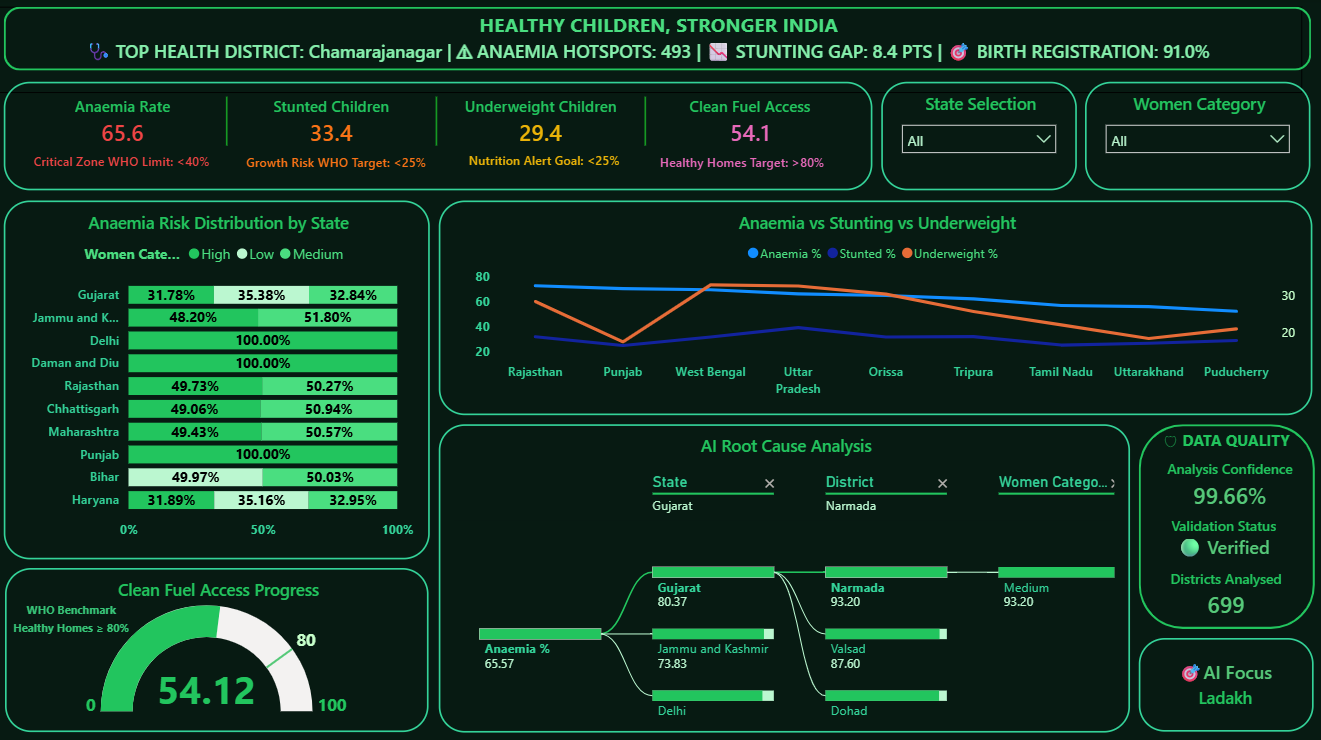

This screenshot's page, from the dashboard's own definition file:
{"tool":"powerbi","page":{"name":"Page 4","canvas":[1280,720],"ordinal":3},"visuals":[{"type":"textbox","box":[9.7,8.4,1261.9,45.8],"z":0},{"type":"cardVisual","fields":{"Data":["Page 4.Health Insight Bar"]},"box":[0,8.4,1261.9,83.2],"z":1000},{"type":"shape","box":[8.4,8.4,1261.9,61.5],"z":2000},{"type":"cardVisual","fields":{"Data":["Measure.Anaemia %","Measure.Stunted %","Measure.Underweight %","Measure.Clean Fuel %"]},"box":[8.4,80.8,838.5,105],"z":3000},{"type":"cardVisual","fields":{"Data":["Page 4.Anaemia Footer"]},"box":[8.2,82.3,255.2,149.6],"z":4000},{"type":"cardVisual","fields":{"Data":["Page 4.Stunting Footer"]},"box":[214.1,101.5,253.9,111.1],"z":5000},{"type":"cardVisual","fields":{"Data":["Page 4.Underweight Footer"]},"box":[428.1,81,255.2,150.9],"z":6000},{"type":"cardVisual","fields":{"Data":["Page 4.Fuel Footer"]},"box":[613.4,119.4,253.9,75.5],"z":7000},{"type":"slicer","title":"State Selection","fields":{"Values":["Dim_District_Profile.State"]},"box":[855,81.2,188.8,105],"z":8000},{"type":"slicer","title":"Women Category","fields":{"Values":["Fact_Health_NFHS.Women Category"]},"box":[1052.5,81.2,217.5,105],"z":9000},{"type":"hundredPercentStackedBarChart","title":"Anaemia Risk Distribution by State","fields":{"Category":["Dim_District_Profile.State"],"Y":["Measure.Anaemia %"],"Series":["Fact_Health_NFHS.Women Category"]},"box":[8.4,195.4,411.4,346.2],"z":10000},{"type":"decompositionTreeVisual","title":"AI Root Cause Analysis","fields":{"Analyze":["Measure.Anaemia %"],"ExplainBy":["Dim_District_Profile.State","Dim_District_Profile.District","Fact_Health_NFHS.Women Category"]},"box":[428.8,411.2,667.5,297.5],"z":11000},{"type":"lineChart","title":"Anaemia vs Stunting vs Underweight","fields":{"Category":["Dim_District_Profile.State"],"Y":["Measure.Anaemia %","Measure.Stunted %"],"Y2":["Measure.Underweight %"]},"box":[428.3,195.4,843.3,207.5],"z":12000},{"type":"gauge","title":"Clean Fuel Access Progress","fields":{"Y":["Measure.Clean Fuel %"],"MaxValue":["Page 3.Gauge Max"],"MinValue":["Page 3.Gauge Min"],"TargetValue":["Page 3.Gauge Target"]},"box":[10,550,408.8,158.8],"z":13000},{"type":"shape","box":[1103.8,411.2,170,197.5],"z":14000},{"type":"textbox","box":[1115,411.2,147.5,46.2],"z":15000},{"type":"cardVisual","fields":{"Data":["Page 4.Analysis Confidence"]},"box":[1103.8,423.8,176.2,92.5],"z":16000},{"type":"cardVisual","fields":{"Data":["Page 4.Validation Status"]},"box":[1097.5,480,176.2,80],"z":17000},{"type":"cardVisual","fields":{"Data":["Page 4.Districts Analysed"]},"box":[1096.2,533.8,183.8,83.8],"z":18000},{"type":"cardVisual","fields":{"Data":["Page 4.🎯AI Focus"]},"box":[1103.8,617.5,168.8,90],"z":19000},{"type":"textbox","box":[9.7,575.5,127.9,86.9],"z":20000}]}

Visuals, with their boxes in screenshot pixels (x1, y1, x2, y2), scaled from the page's 1280x720 canvas onto the 1321x740 screenshot:
textbox: 10 9 1312 56
cardVisual - Page 4.Health Insight Bar: 0 9 1302 94
shape: 9 9 1311 72
cardVisual - Measure.Anaemia % x Measure.Stunted %: 9 83 874 191
cardVisual - Page 4.Anaemia Footer: 8 85 272 238
cardVisual - Page 4.Stunting Footer: 221 104 483 219
cardVisual - Page 4.Underweight Footer: 442 83 705 238
cardVisual - Page 4.Fuel Footer: 633 123 895 200
"State Selection" slicer: 882 83 1077 191
"Women Category" slicer: 1086 83 1311 191
"Anaemia Risk Distribution by State" hundredPercentStackedBarChart: 9 201 433 557
"AI Root Cause Analysis" decompositionTreeVisual: 443 423 1131 728
"Anaemia vs Stunting vs Underweight" lineChart: 442 201 1312 414
"Clean Fuel Access Progress" gauge: 10 565 432 728
shape: 1139 423 1315 626
textbox: 1151 423 1303 470
cardVisual - Page 4.Analysis Confidence: 1139 436 1320 531
cardVisual - Page 4.Validation Status: 1133 493 1314 576
cardVisual - Page 4.Districts Analysed: 1131 549 1320 635
cardVisual - Page 4.🎯AI Focus: 1139 635 1313 727
textbox: 10 591 142 681
